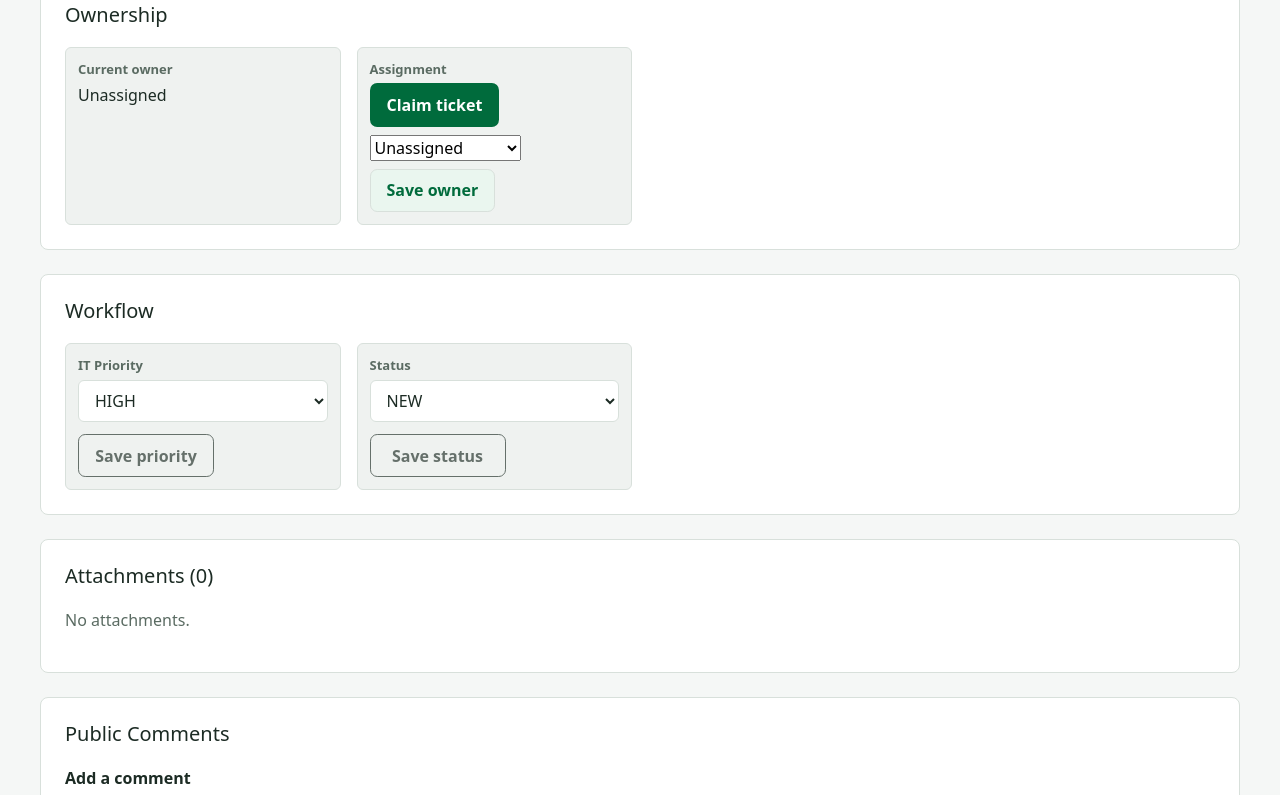
Test: StaffTicketDetail › refreshes authoritative state while retaining a local selection after a stale workflow write
(page scrolled)
Select "CANCELLED" in the dropdown named "Ticket status" at (494, 401), box [370,380,619,422]
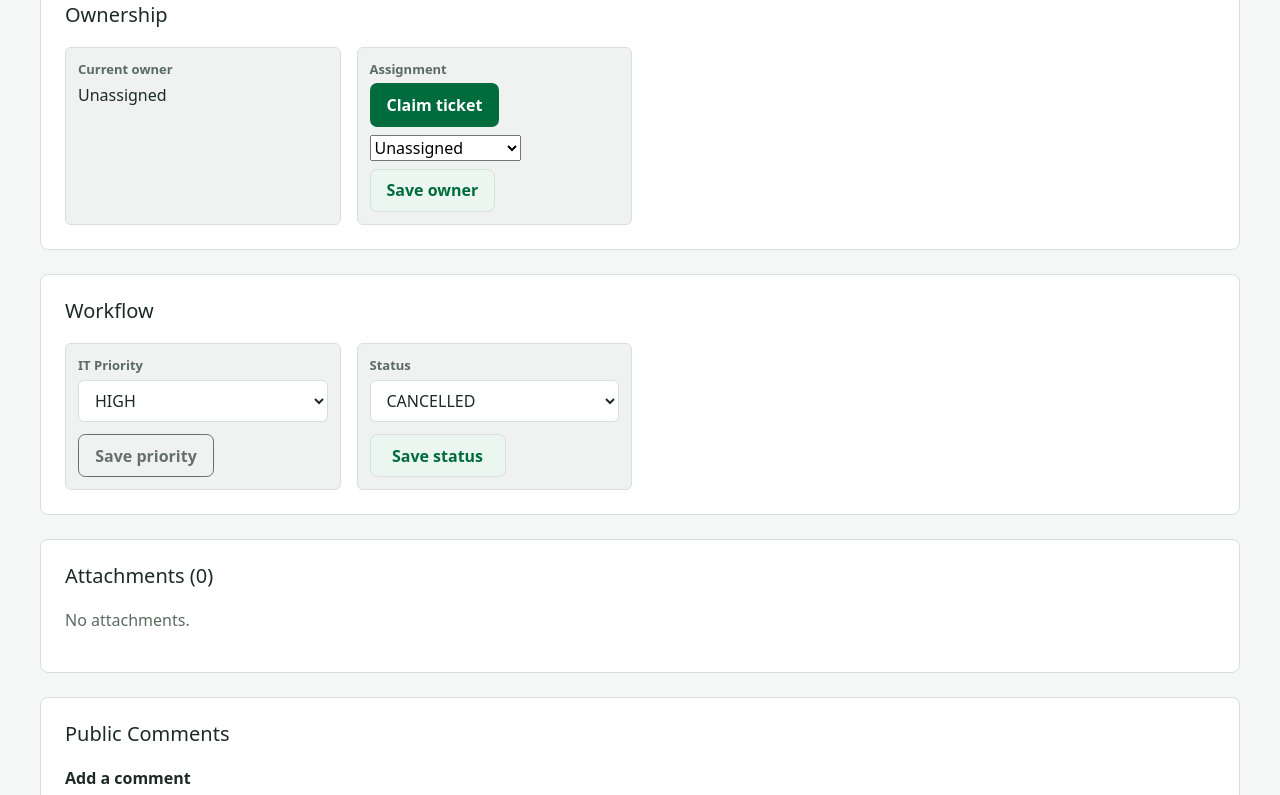
Click the button "Save status" at (438, 456), box [370,434,506,477]
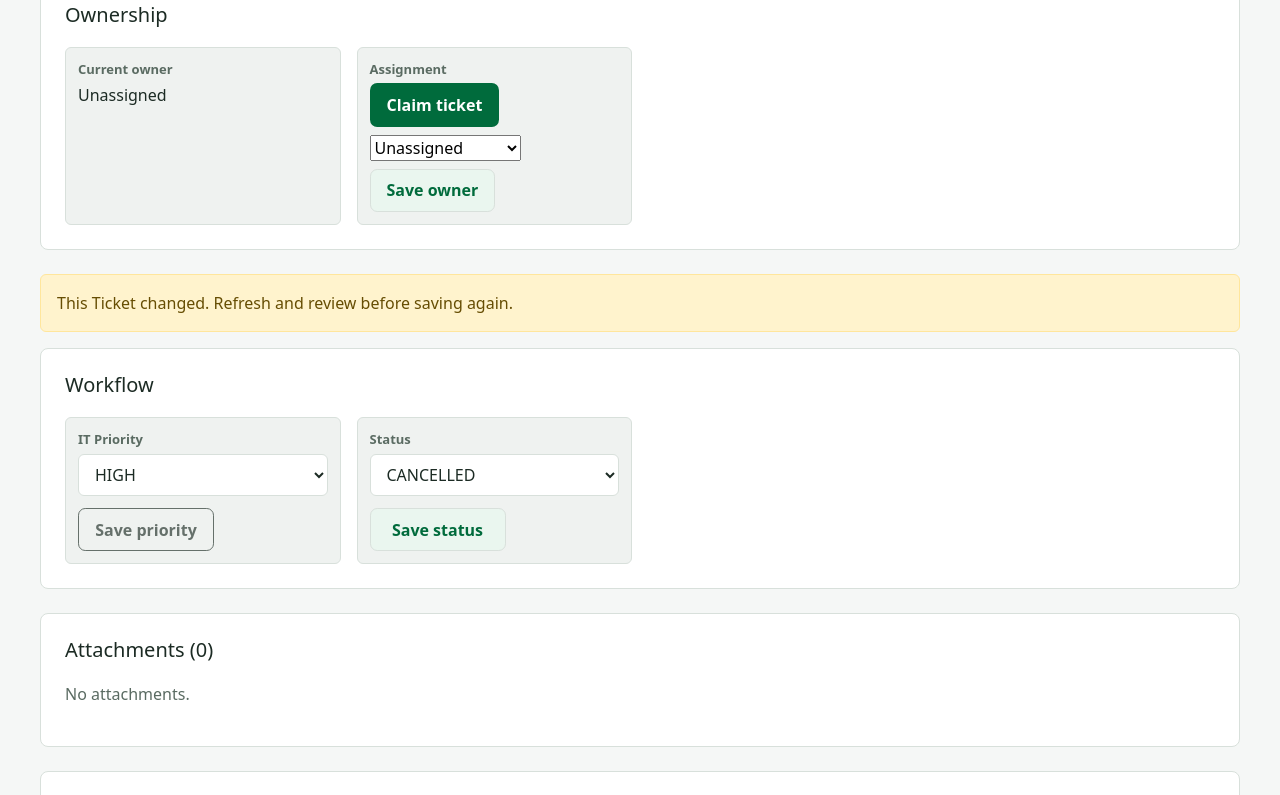
Now the text "This Ticket changed. Refresh and review before saving again." is shown, box [40,274,1240,332]
